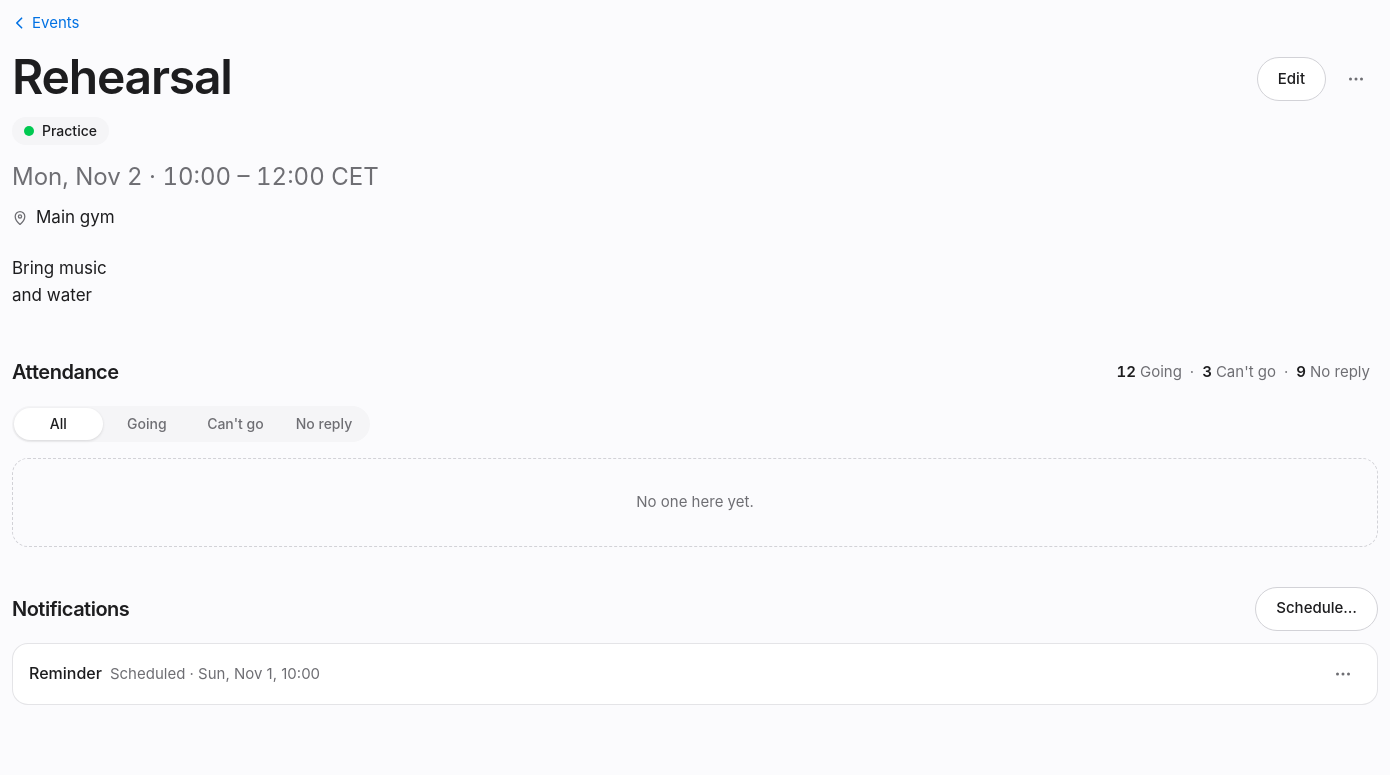
Test: EventDetailView › unschedules a notification and toasts
Click the button named "Actions for reminder": (1343, 674) [1325,656,1361,692]
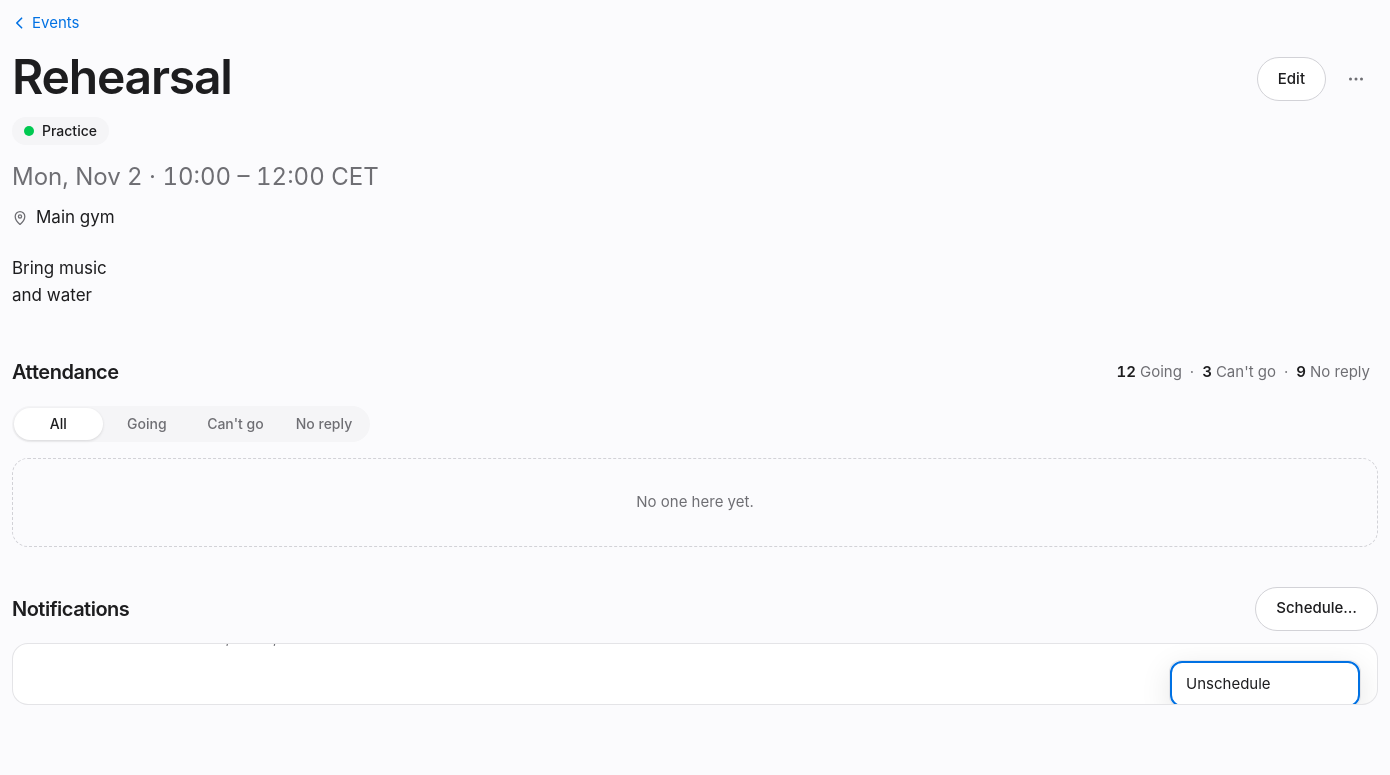
Click the menu item "Unschedule": (1265, 684) [1174,664,1356,703]
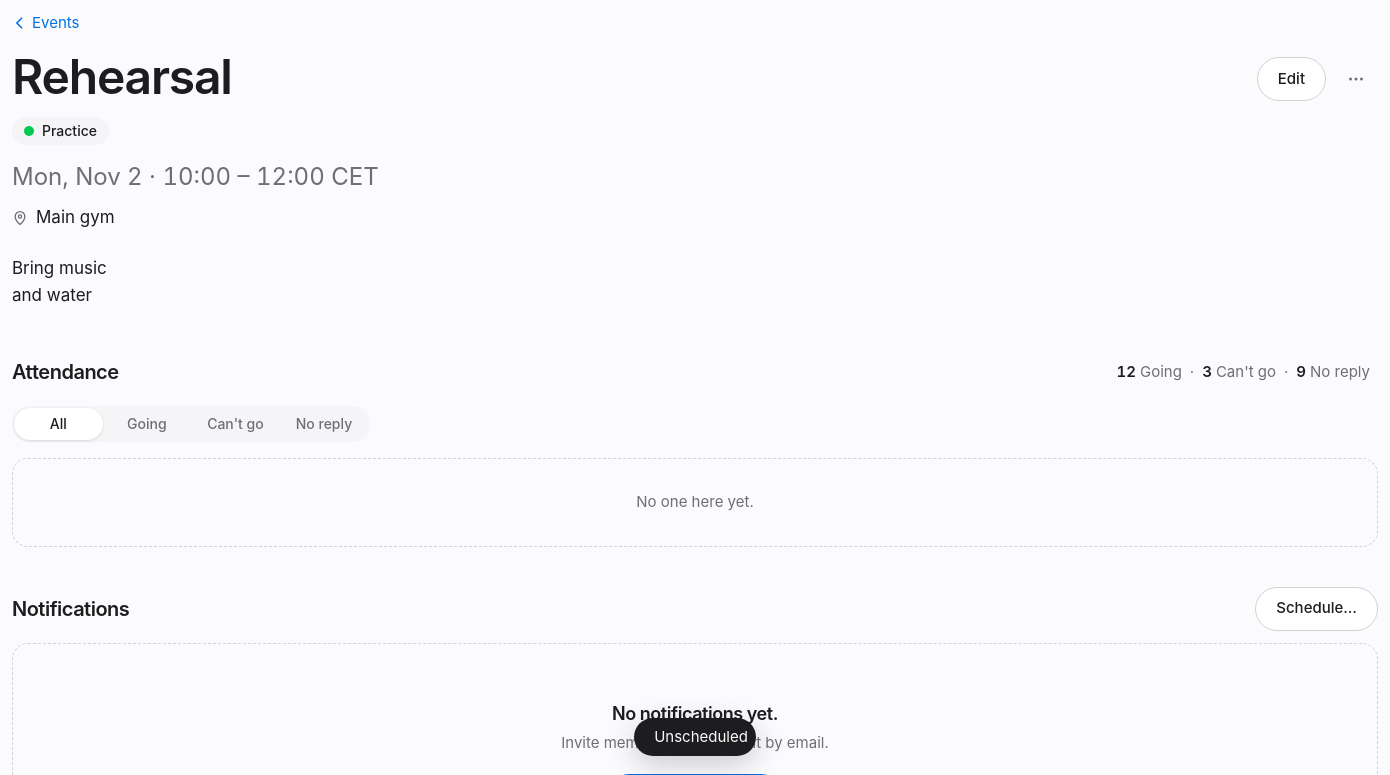
Expected: the message "Unscheduled" is shown, [634,718,756,756]
